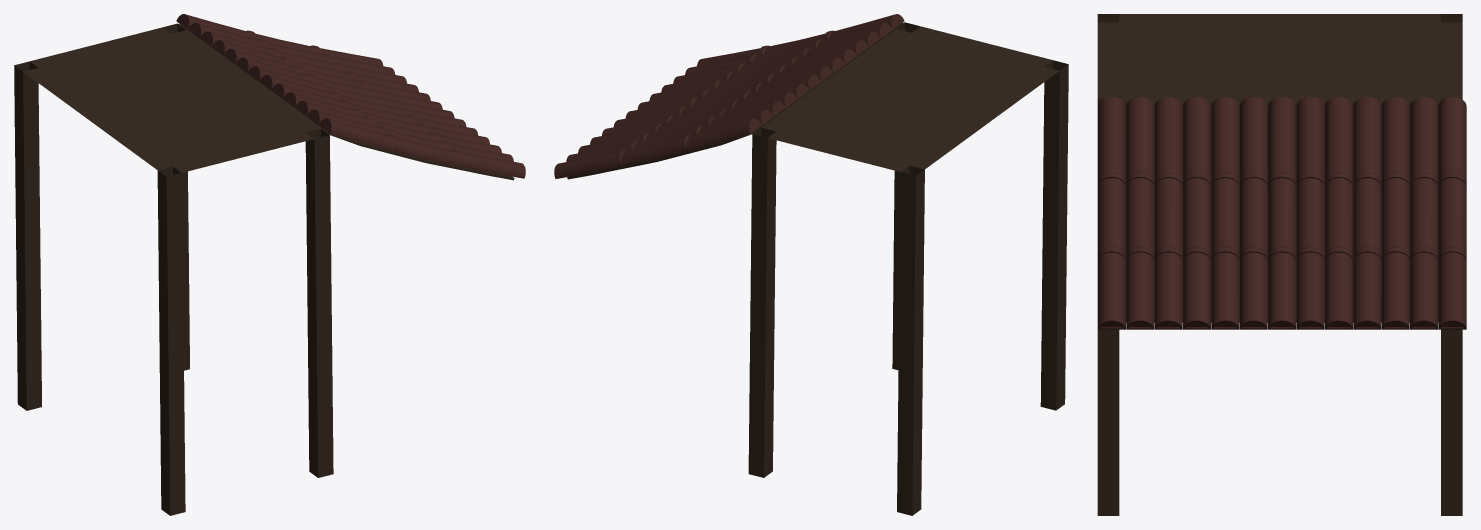
File: Stall_1.fbx
3 views of the same model, side by side, from view 1: azimuth 30°, elevation 25°; view 2: azimuth 150°, elevation 25°; view 3: azimuth 270°, elevation 25° (orthographic). The views are drawn at different scales.
Visible parts, largest first — view 1: Plane.070; view 2: Plane.070; view 3: Plane.070.
Boxes of the visible parts, bbox=[...] form: Plane.070: bbox=[14, 14, 525, 515]; Plane.070: bbox=[554, 14, 1068, 515]; Plane.070: bbox=[1097, 14, 1466, 515].
Size of the model in its own units: 357 by 332 by 263.
